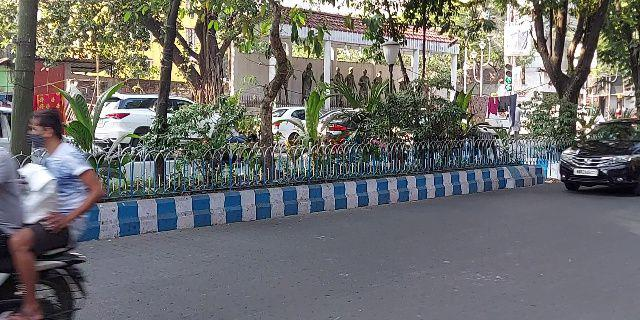Car: (559, 119, 640, 193)
Motorbike: (1, 110, 102, 317)
